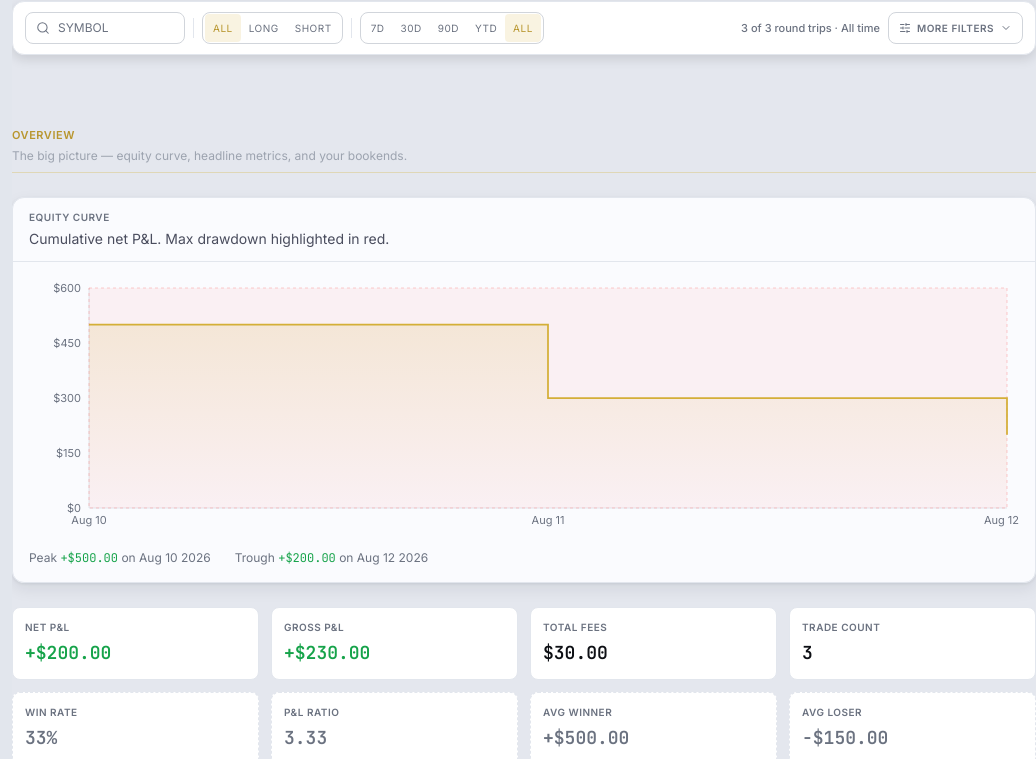
Test: T7 chart titles reflect the active range › a real range survives beside the narrowing
The width and height of the screenshot is (1036, 759).
Click the button "YTD" at {"x": 486, "y": 28}, box [467, 14, 505, 42]
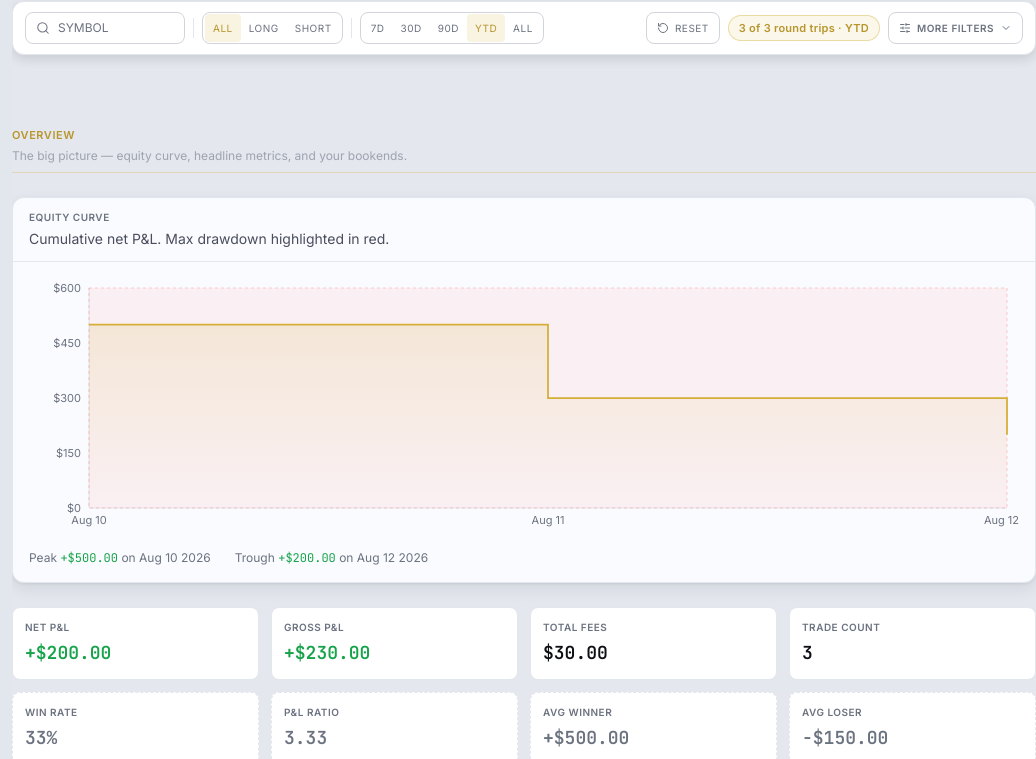
Type "AAAA" into the field with placeholder "Symbol" at {"x": 116, "y": 28}, box [58, 20, 174, 36]
(page scrolled)
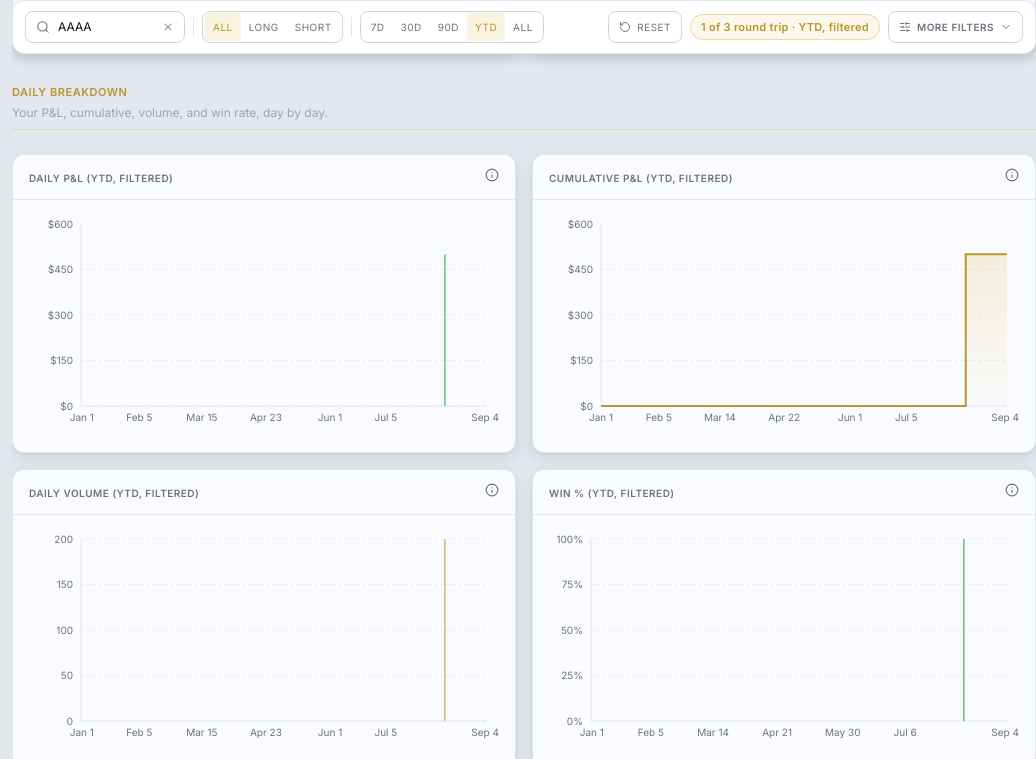
expect the text "Daily P&L (YTD, filtered)" is shown: met, box [29, 170, 173, 186]
expect the text "Cumulative P&L (YTD, filtered)" is shown: met, box [549, 170, 733, 186]
expect the text "Daily Volume (YTD, filtered)" is shown: met, box [29, 486, 199, 500]
